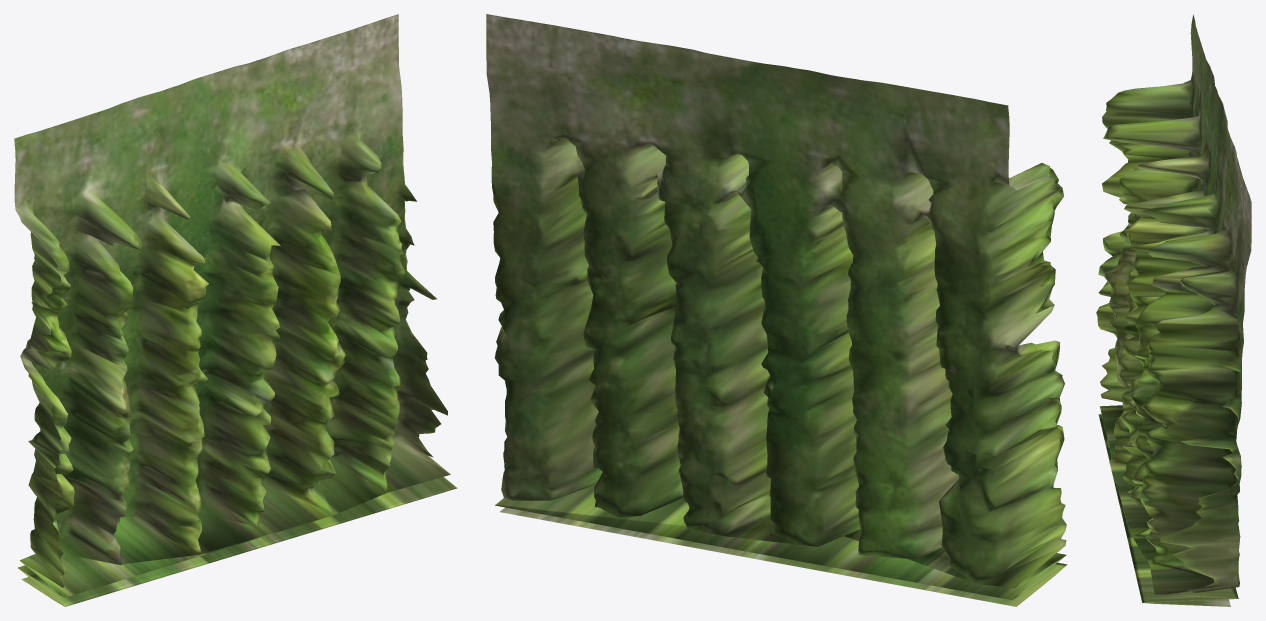
Rendered from map_0_40.obj.
3 renders of one model, left to right at view 1: azimuth 30°, elevation 25°; view 2: azimuth 150°, elevation 25°; view 3: azimuth 270°, elevation 25°, orthographic. The views are drawn at different scales.
Visible parts, largest first — view 1: map_0_40.obj; view 2: map_0_40.obj; view 3: map_0_40.obj.
Part boxes in pixels (left/top/right/bottom): map_0_40.obj: left=14, top=14, right=457, bottom=606; map_0_40.obj: left=486, top=14, right=1067, bottom=606; map_0_40.obj: left=1096, top=14, right=1251, bottom=606.
Bounding box in the file's own units: 10 × 10 × 3.49.
Materials: 1 (1 with a texture image).
